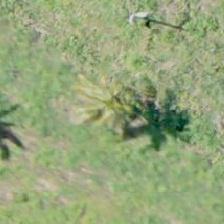Kelapa_Sawit: (72, 57, 162, 147)
